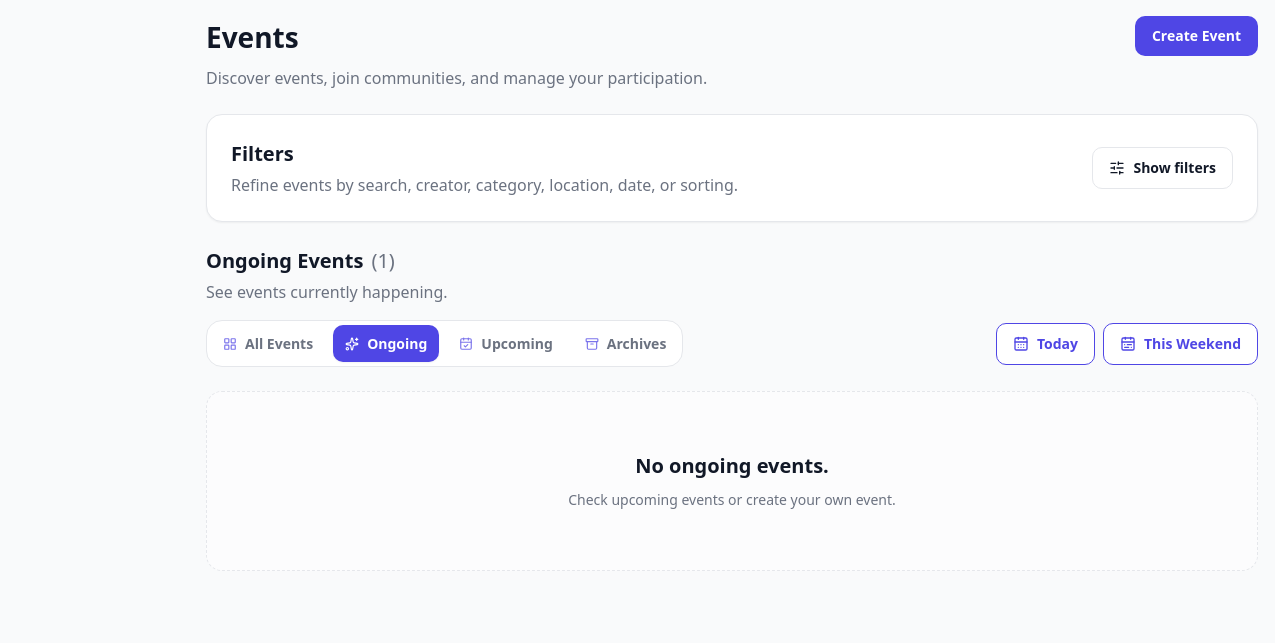
EventsPage › updates URL when switching view
Expected: the heading "No ongoing events." is shown, [635,451,829,481]
What coordinates should you click on to do the following:
click the tab "Upcoming"
I would click on:
 (506, 344)
Its box is [447,325,565,362].
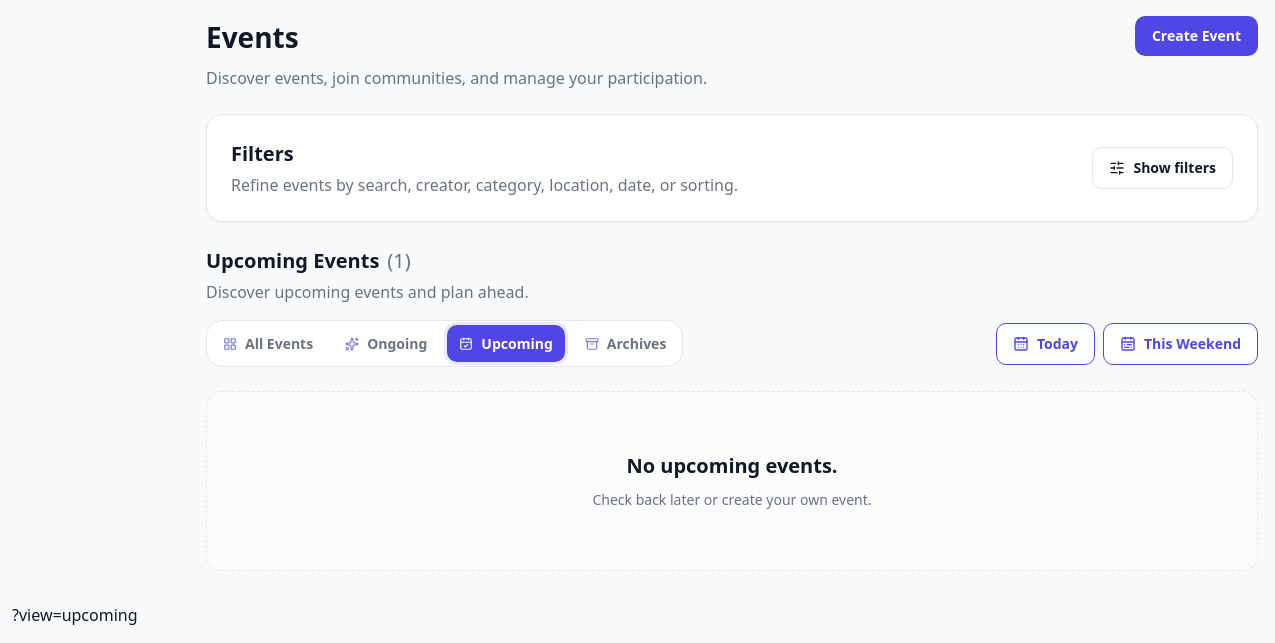
Expected: the text with test id "location-search" shows "view=upcoming", [12,604,138,626]
